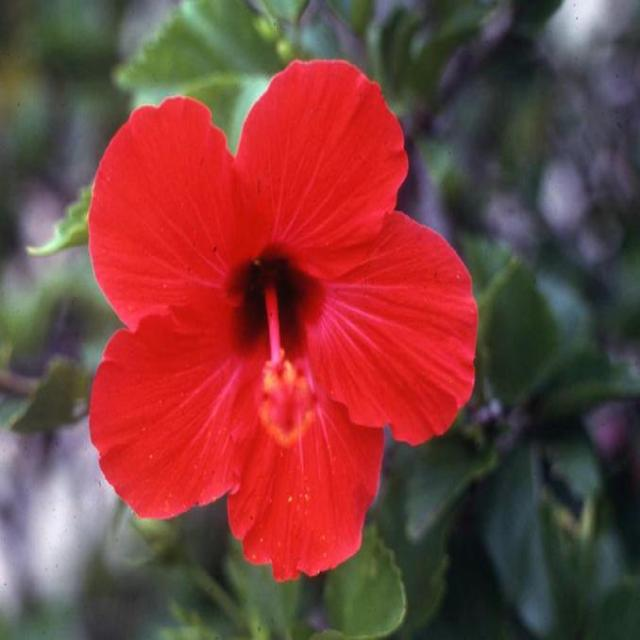hibiscus: (42, 28, 565, 610)
